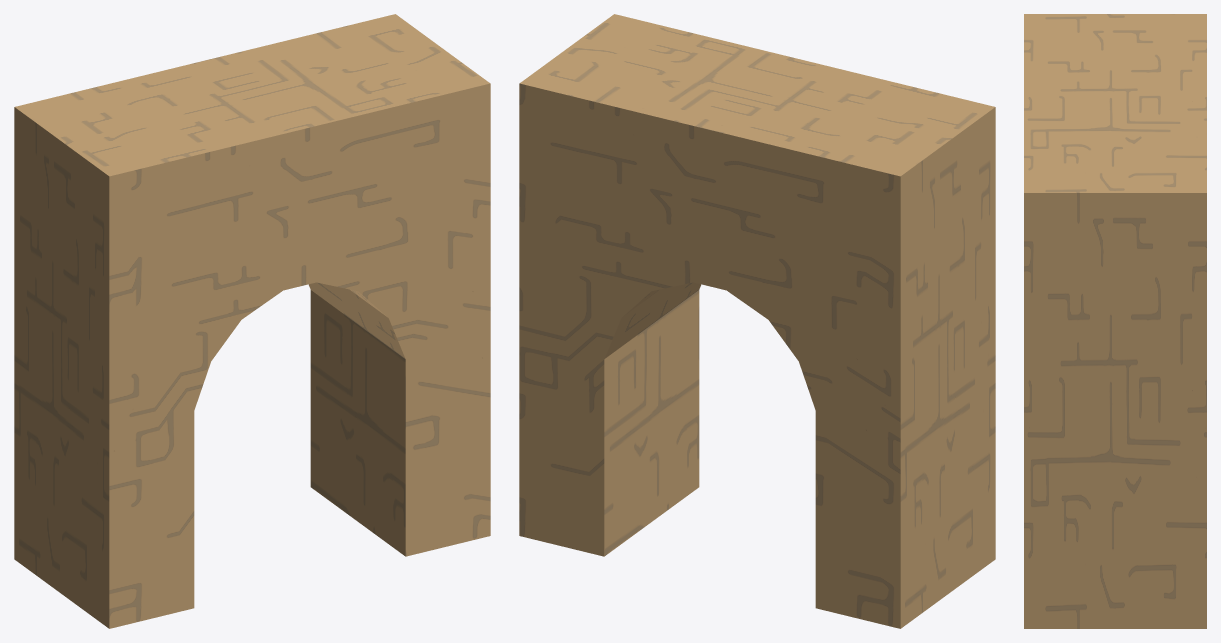
The model's file is Mesh_ArchwayWall.glb.
The picture shows the model from 3 angles, left to right: view 1: azimuth 30°, elevation 25°; view 2: azimuth 150°, elevation 25°; view 3: azimuth 270°, elevation 25°; orthographic projection. The views are drawn at different scales.
Visible parts, largest first — view 1: Cube.019; view 2: Cube.019; view 3: Cube.019.
Part boxes in pixels (<box>): Cube.019: <box>14,14,490,628</box>; Cube.019: <box>519,14,995,628</box>; Cube.019: <box>1024,14,1206,628</box>.
Size of the model in its own units: 22.9 by 25.98 by 9.88.
Materials: 1 (1 with a texture image).
